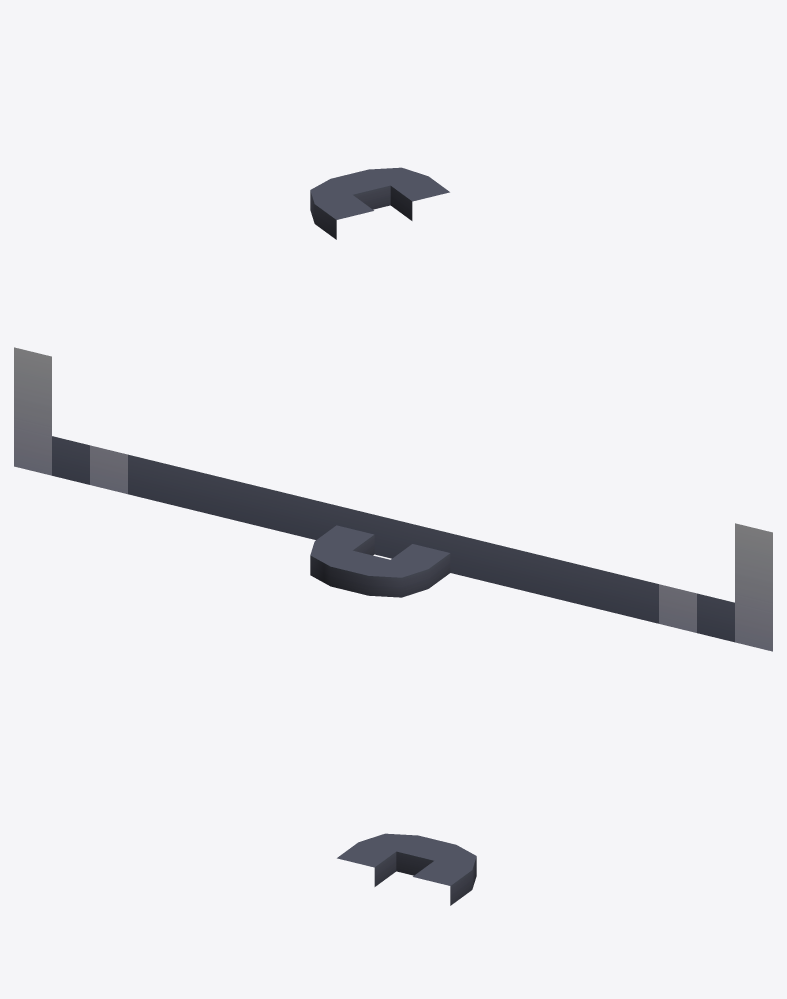
The model's file is kenney-toy-car-track-road-wide-cap-front.glb.
The picture shows the model from 3 angles, top to bottom: view 1: azimuth 30°, elevation 25°; view 2: azimuth 150°, elevation 25°; view 3: azimuth 330°, elevation 25°; orthographic projection.
Visible parts, largest first — view 1: track-road-wide-cap-front; view 2: track-road-wide-cap-front; view 3: track-road-wide-cap-front.
Boxes of the visible parts, x1,y1,x2,y2 form: track-road-wide-cap-front: [310, 167, 449, 239]; track-road-wide-cap-front: [14, 347, 772, 651]; track-road-wide-cap-front: [337, 833, 476, 905].
Size of the model in its own units: 2 by 0.3001 by 0.2.
Materials: 1 (1 with a texture image).
